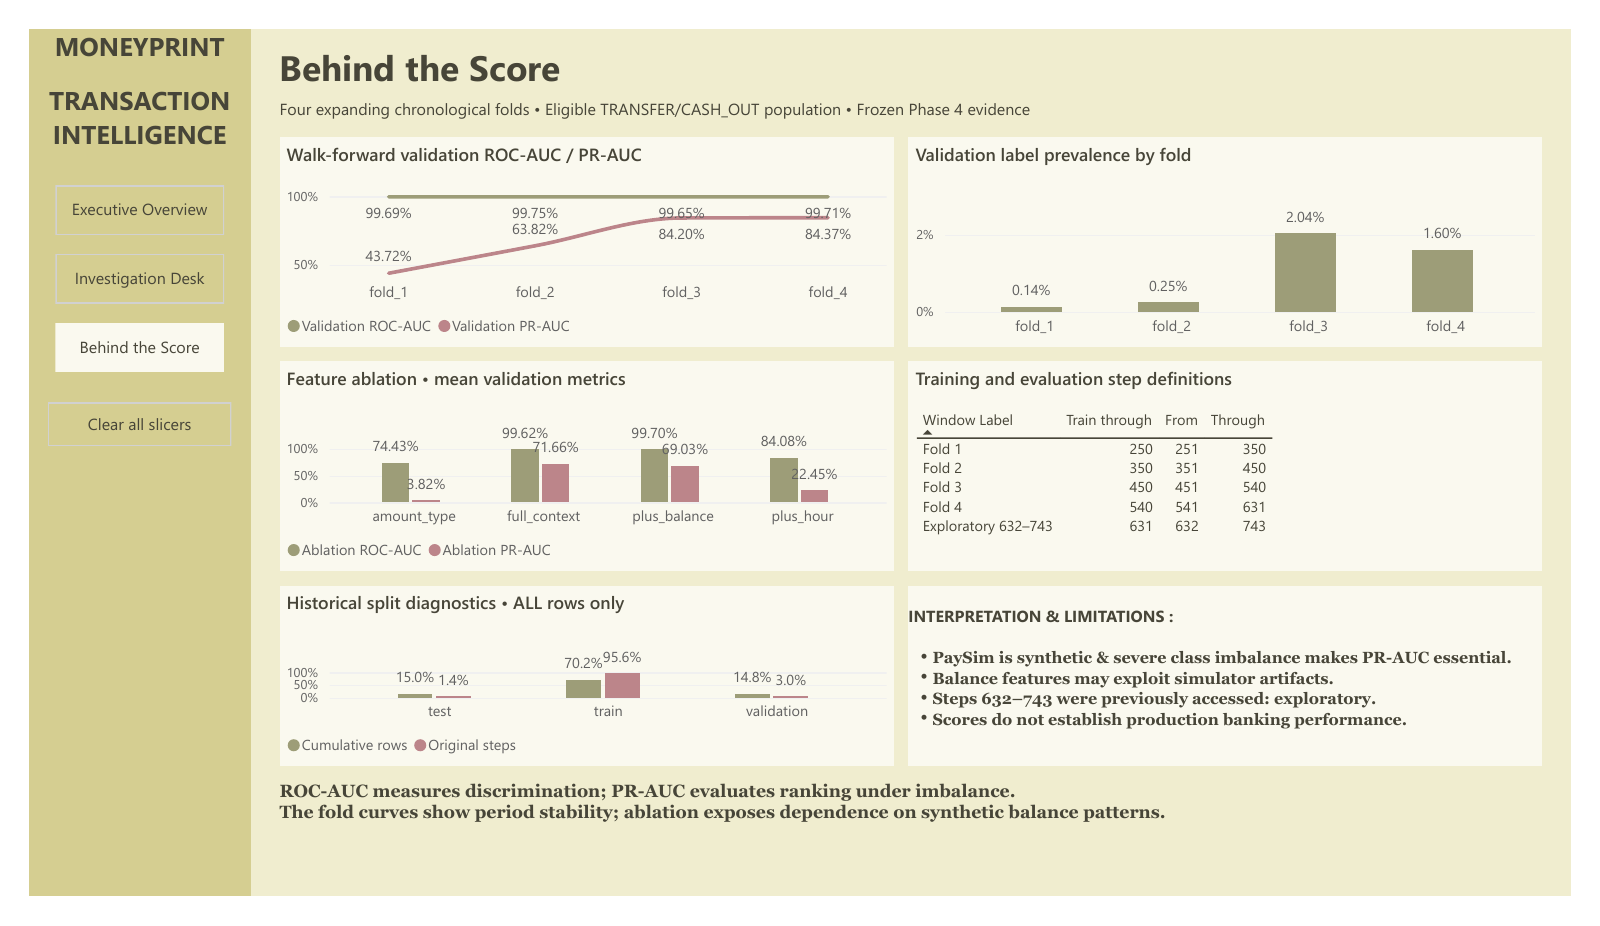

This screenshot's page, from the dashboard's own definition file:
{"tool":"powerbi","page":{"name":"Behind the Score","canvas":[1280,720],"ordinal":2},"visuals":[{"type":"textbox","box":[0,0,184,720],"z":0},{"type":"pageNavigator","box":[16,126,152,164],"z":1},{"type":"textbox","box":[16,500,152,150],"z":3},{"type":"textbox","box":[208,12,1048,50],"z":4},{"type":"textbox","box":[208,687,1048,24],"z":5},{"type":"textbox","box":[208,58,1048,24],"z":6},{"type":"lineChart","title":"Walk-forward validation ROC-AUC / PR-AUC","fields":{"Category":["dim_evaluation_window.evaluation_window"],"Y":["executive_kpi_summary.Validation ROC-AUC","executive_kpi_summary.Validation PR-AUC"]},"box":[208,90,510,174],"z":7},{"type":"columnChart","title":"Validation label prevalence by fold","fields":{"Category":["dim_evaluation_window.evaluation_window"],"Y":["executive_kpi_summary.Validation Prevalence"]},"box":[730,90,526,174],"z":8},{"type":"clusteredColumnChart","title":"Feature ablation • mean validation metrics","fields":{"Category":["phase4_model_feature_ablation.feature_set"],"Y":["executive_kpi_summary.Ablation ROC-AUC","executive_kpi_summary.Ablation PR-AUC"]},"box":[208,276,510,174],"z":9},{"type":"tableEx","title":"Training and evaluation step definitions","fields":{"Values":["dim_evaluation_window.Window Label","dim_evaluation_window.train_end_step","dim_evaluation_window.evaluation_start_step","dim_evaluation_window.evaluation_end_step"]},"box":[730,276,526,174],"z":10},{"type":"clusteredColumnChart","title":"Historical split diagnostics • ALL rows only","fields":{"Category":["split_distribution_comparison.split"],"Series":["split_distribution_comparison.Protocol Label"],"Y":["executive_kpi_summary.Historical Split Share"]},"box":[208,462,510,150],"z":11},{"type":"textbox","box":[730,462,526,150],"z":12},{"type":"textbox","box":[208,624,1048,54],"z":13},{"type":"actionButton","box":[16,310,152,36],"z":30}]}

Visuals, with their boxes in screenshot pixels (x1, y1, x2, y2), scaled from the page's 1280x720 canvas onto the 1600x926 screenshot:
textbox: (x1=0, y1=0, x2=230, y2=925)
pageNavigator: (x1=20, y1=162, x2=210, y2=373)
textbox: (x1=20, y1=643, x2=210, y2=836)
textbox: (x1=260, y1=15, x2=1570, y2=80)
textbox: (x1=260, y1=884, x2=1570, y2=914)
textbox: (x1=260, y1=75, x2=1570, y2=105)
"Walk-forward validation ROC-AUC / PR-AUC" lineChart: (x1=260, y1=116, x2=898, y2=340)
"Validation label prevalence by fold" columnChart: (x1=912, y1=116, x2=1570, y2=340)
"Feature ablation • mean validation metrics" clusteredColumnChart: (x1=260, y1=355, x2=898, y2=579)
"Training and evaluation step definitions" tableEx: (x1=912, y1=355, x2=1570, y2=579)
"Historical split diagnostics • ALL rows only" clusteredColumnChart: (x1=260, y1=594, x2=898, y2=787)
textbox: (x1=912, y1=594, x2=1570, y2=787)
textbox: (x1=260, y1=803, x2=1570, y2=872)
actionButton: (x1=20, y1=399, x2=210, y2=445)
